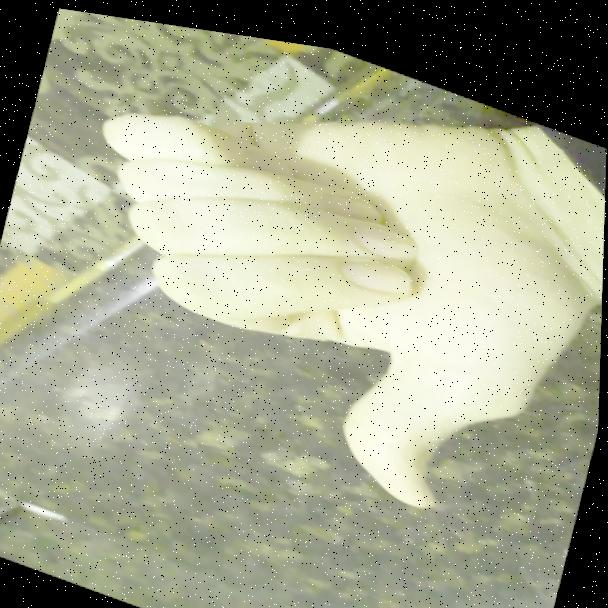five: (34, 52, 598, 540)
